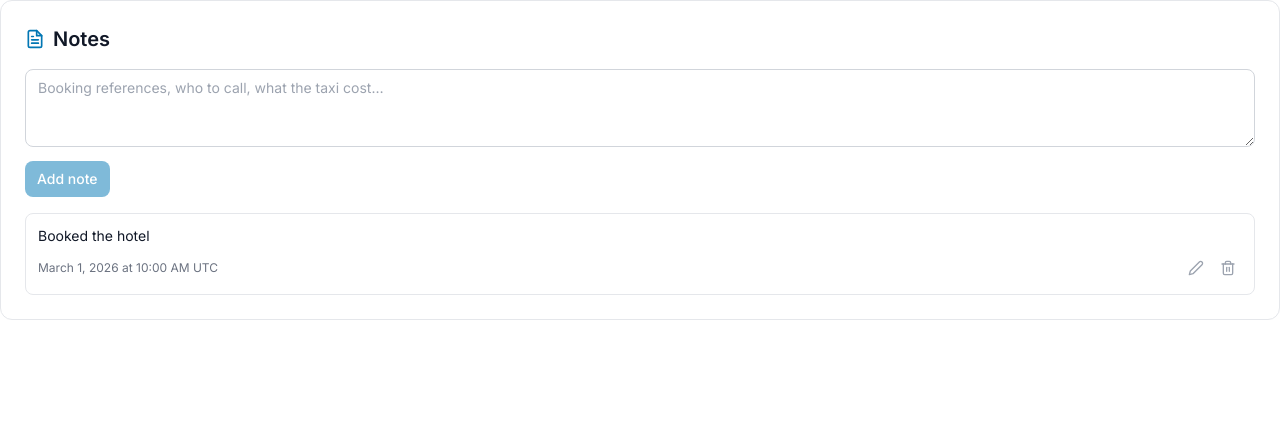
Test: a note is never shown as saved before it is saved › a saved note clears the box and appears at the top
The image size is (1280, 431).
Expected: the text "Booked the hotel" is shown, [38,227,150,244]
In the text box named "add a note": (640, 108) [25,69,1255,147], type "Ravi says take the 6am bus"
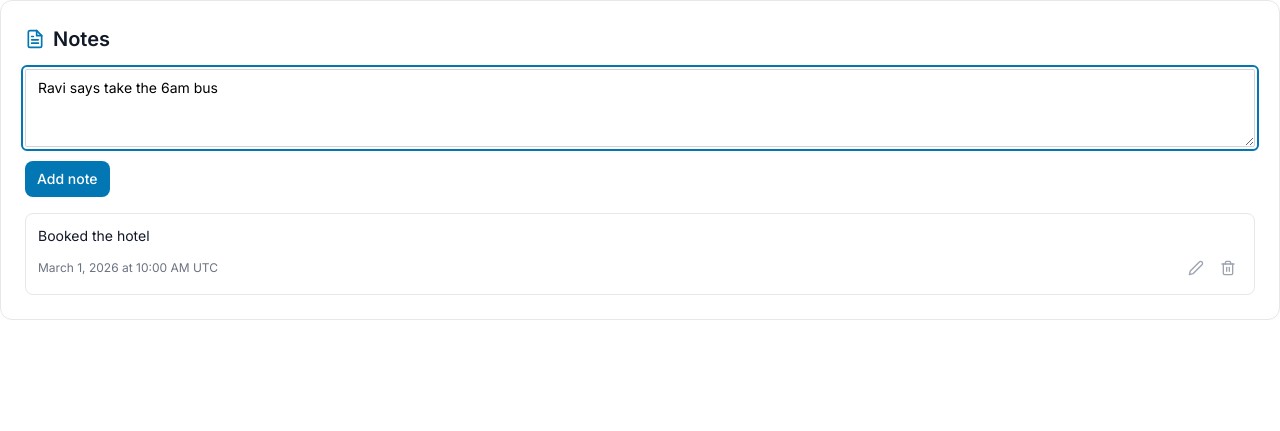
Click the button "Add note": click(67, 179) [25,161,110,197]
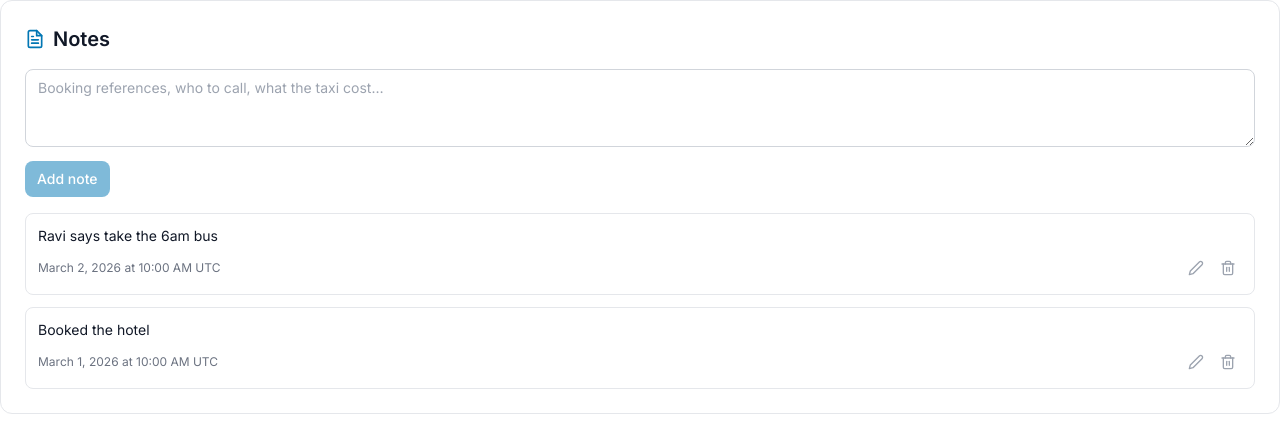
Expected: the text box named "add a note" is empty, [25,69,1255,147]
Expected: the list item "Ravi says take the 6am bus March 2, 2026 at 10:00 AM UTC" is shown, [25,213,1255,295]
